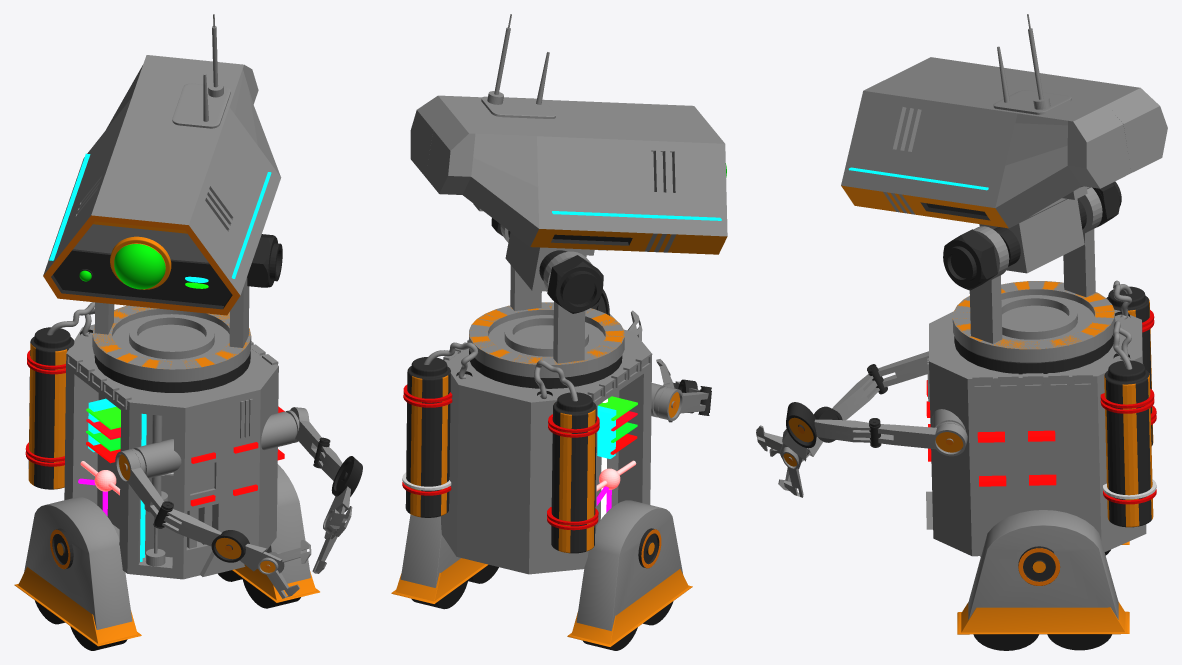
File: nx47_datacore_droid.glb
3 views of the same model, side by side, from view 1: azimuth 30°, elevation 25°; view 2: azimuth 150°, elevation 25°; view 3: azimuth 270°, elevation 25° (orthographic). The views are drawn at different scales.
Parts seen in each view (by area): view 1: Cube, Cube.005, Cylinder.031, Circle.002, Cylinder.011, Cylinder.026, Sphere, Cylinder.023, Cube.001, Circle.003, Circle, Cylinder.035 (+14 smaller); view 2: Cube, Cube.005, Cylinder.011, Cylinder.031, Circle.002, Cylinder.026, Circle, Bolt, Cube.004, Circle.003, BezierCurve, Cube.001 (+6 smaller); view 3: Cube, Cube.005, Cylinder.026, Circle.002, Cylinder.011, Circle, Bolt, Cube.004, Cylinder.024, Circle.003, Cylinder.022, Cylinder.027 (+7 smaller).
Boxes of the visible parts, box(x1,y1,x2,y2) form: Cube: box(43, 55, 281, 315); Cube.005: box(64, 324, 278, 579); Cylinder.031: box(14, 497, 141, 646); Circle.002: box(92, 305, 251, 382); Cylinder.011: box(28, 327, 92, 489); Cylinder.026: box(232, 464, 319, 602); Sphere: box(110, 236, 171, 289); Cylinder.023: box(130, 410, 299, 478); Cube.001: box(172, 83, 230, 128); Circle.003: box(94, 351, 250, 392); Circle: box(94, 277, 249, 347); Cylinder.035: box(211, 530, 284, 573); Cube: box(410, 95, 727, 254); Cube.005: box(441, 329, 652, 574); Cylinder.011: box(405, 357, 596, 553); Cylinder.031: box(567, 500, 692, 646); Circle.002: box(468, 302, 624, 377); Cylinder.026: box(391, 514, 488, 603); Circle: box(500, 224, 592, 363); Bolt: box(491, 218, 603, 313); Cube.004: box(505, 232, 607, 291); Circle.003: box(469, 349, 622, 388); BezierCurve: box(424, 342, 577, 401); Cube.001: box(481, 96, 555, 118); Cube: box(841, 57, 1167, 228); Cube.005: box(926, 309, 1146, 556); Cylinder.026: box(957, 510, 1129, 634); Circle.002: box(952, 281, 1115, 362); Cylinder.011: box(1104, 286, 1153, 527); Circle: box(969, 187, 1102, 343); Bolt: box(943, 181, 1121, 290); Cube.004: box(979, 199, 1084, 273); Cylinder.024: box(877, 423, 967, 456); Circle.003: box(954, 334, 1113, 374); Cylinder.022: box(973, 634, 1111, 650); Cylinder.027: box(780, 402, 816, 469).
Bounding box in the file's own units: 5.26 × 11.07 × 6.82.
